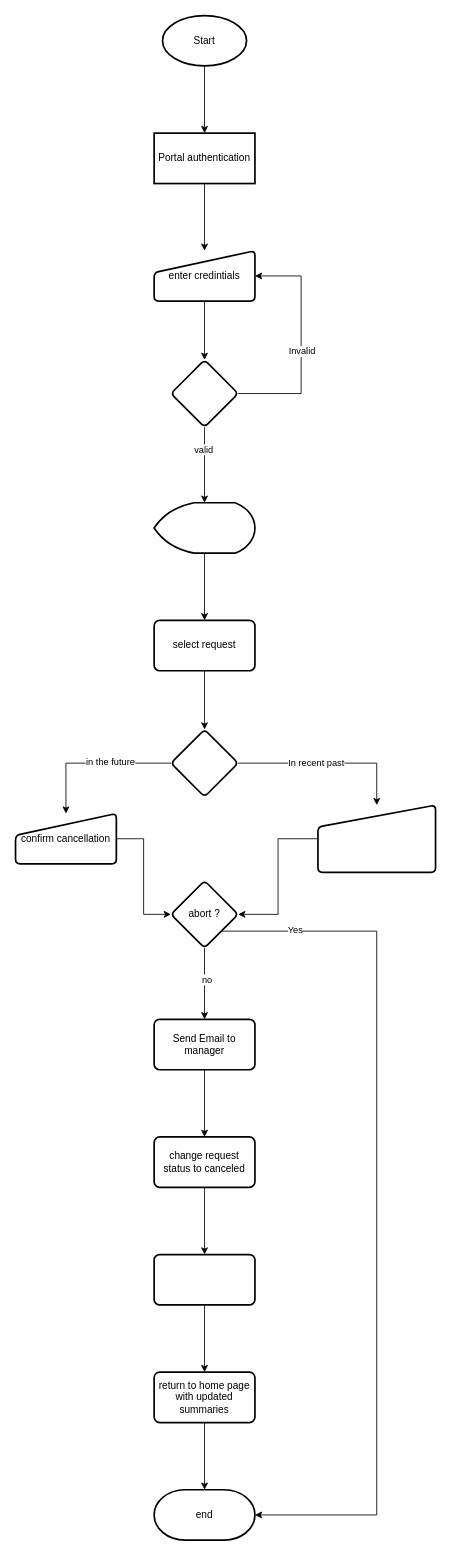
Image size: 450x1555. Some labels were removed from this diagram. Here are the shapes that lost their labels. From the top down, the centre of each, then its label:
(204,393): validate
(204,527): Display vacation requests
(204,762): request date
(376,838): confirm cancellation with explanation
(204,1279): return time allowances
